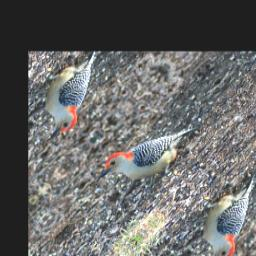Woodpecker: (91, 102, 209, 211)
